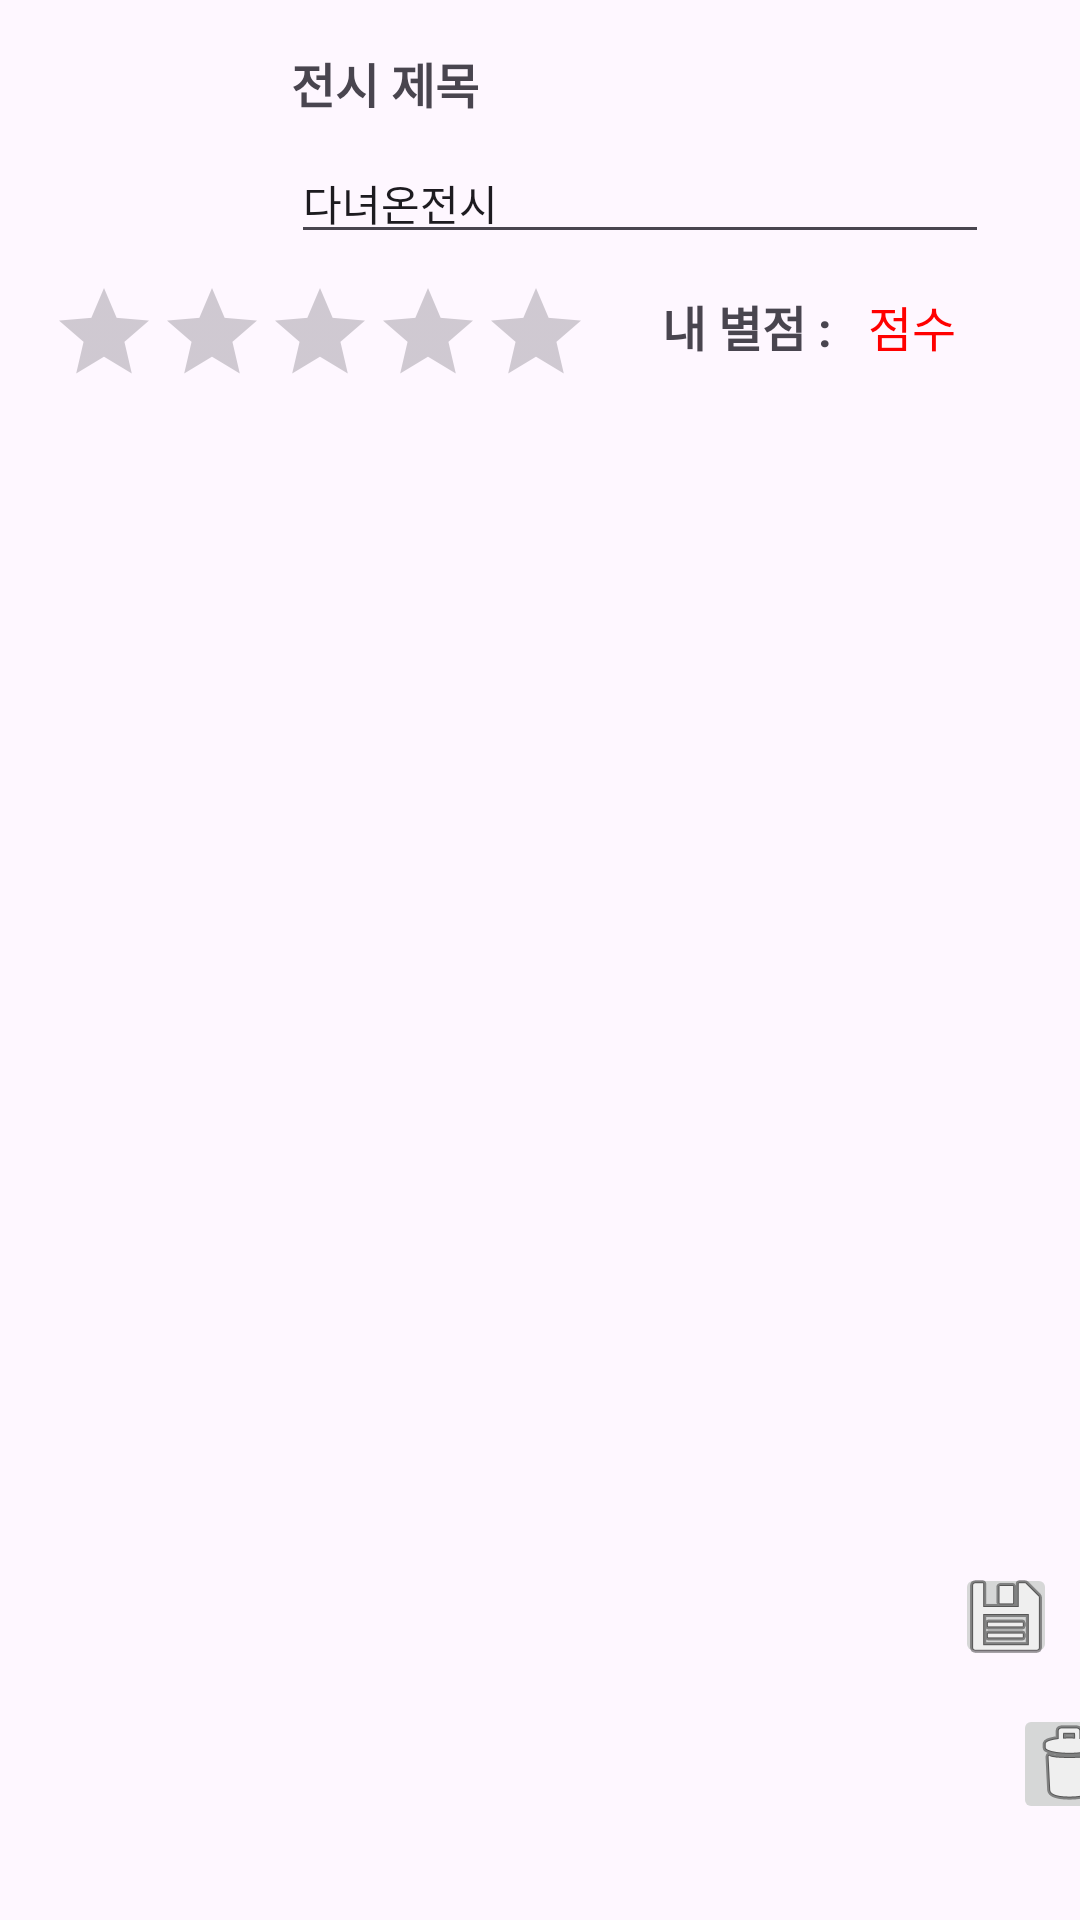

Icon bounding boxes for this 1080*1920 phone screenshot, format [x1,y1,x2,y2]:
save: [967,1580,1045,1653]
